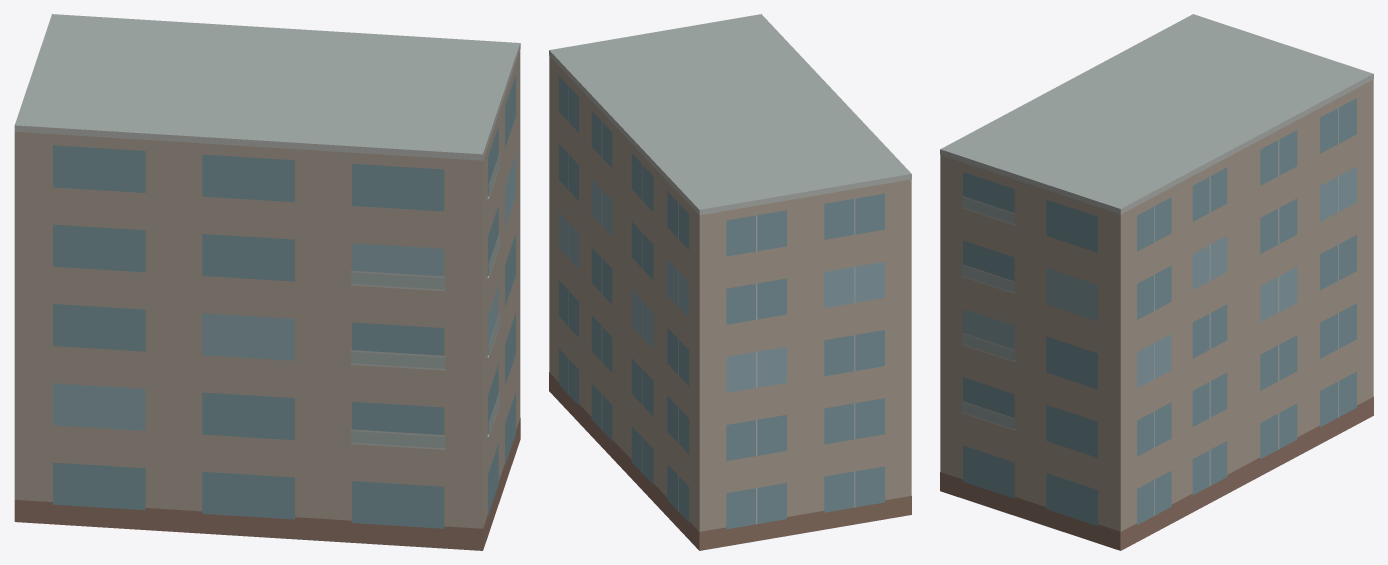
Rendered from survey-upis-32999180.glb.
The picture shows the model from 3 angles, left to right: view 1: azimuth 30°, elevation 25°; view 2: azimuth 150°, elevation 25°; view 3: azimuth 270°, elevation 25°; orthographic projection. The views are drawn at different scales.
Parts seen in each view (by area): view 1: survey-upis-32999180.tmp; view 2: survey-upis-32999180.tmp; view 3: survey-upis-32999180.tmp.
Part boxes in pixels (bbox=[...]): survey-upis-32999180.tmp: bbox=[14, 14, 520, 550]; survey-upis-32999180.tmp: bbox=[549, 14, 911, 550]; survey-upis-32999180.tmp: bbox=[940, 14, 1373, 550].
Bounding box in the file's own units: 18.49 × 15.1 × 17.36.
